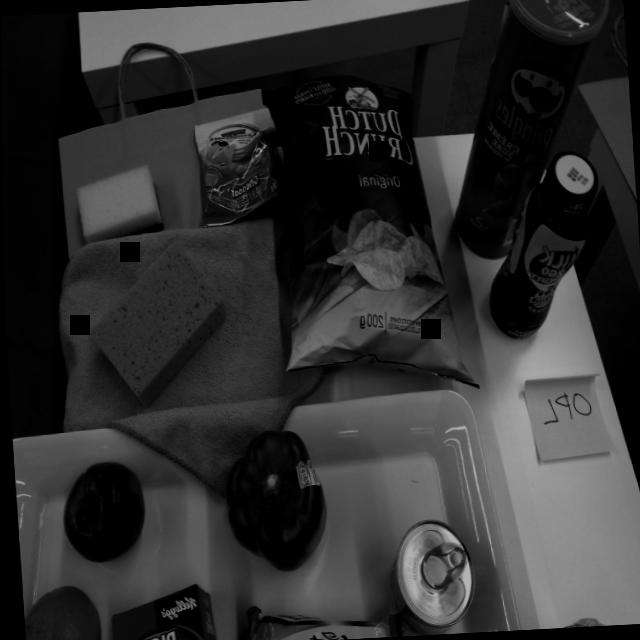apple: (55, 454, 150, 570)
chocolate_drink: (476, 146, 610, 347)
crackers: (188, 105, 291, 231)
orange: (21, 582, 104, 640)
paprika: (214, 423, 333, 579)
potato_chips: (257, 65, 479, 404)
sausages: (380, 511, 481, 638)
scrubby: (71, 163, 169, 255)
sponge_opl: (82, 235, 236, 415)
